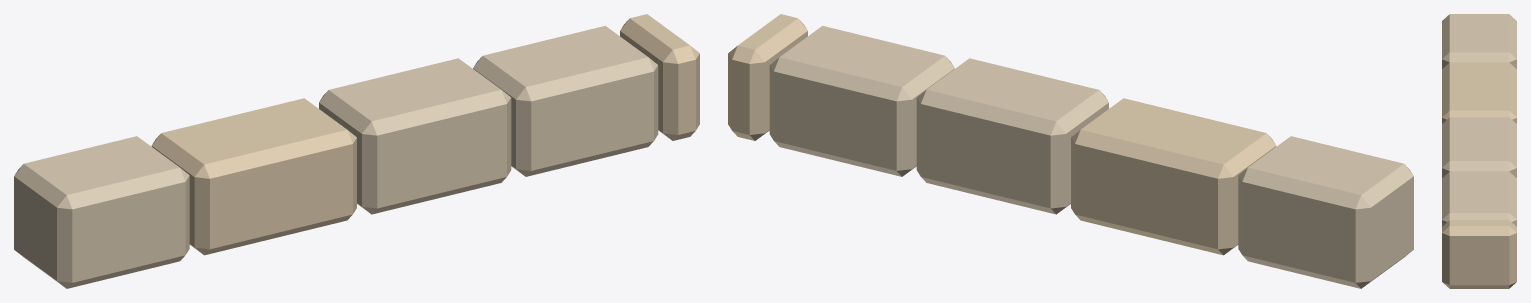
The model's file is stone_base.glb.
3 views of the same model, side by side, from view 1: azimuth 30°, elevation 25°; view 2: azimuth 150°, elevation 25°; view 3: azimuth 270°, elevation 25° (orthographic). The views are drawn at different scales.
Parts seen in each view (by area): view 1: stone_base; view 2: stone_base; view 3: stone_base.
Part boxes in pixels (x1,y1,x2,y2): stone_base: (14,14,699,288); stone_base: (728,14,1413,288); stone_base: (1442,14,1516,288).
Bounding box in the file's own units: 1.99 × 0.2768 × 0.29.
